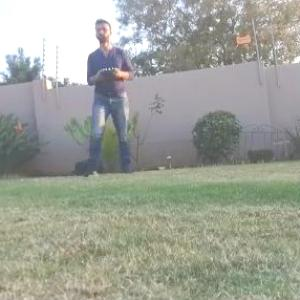follow: (76, 12, 138, 184)
